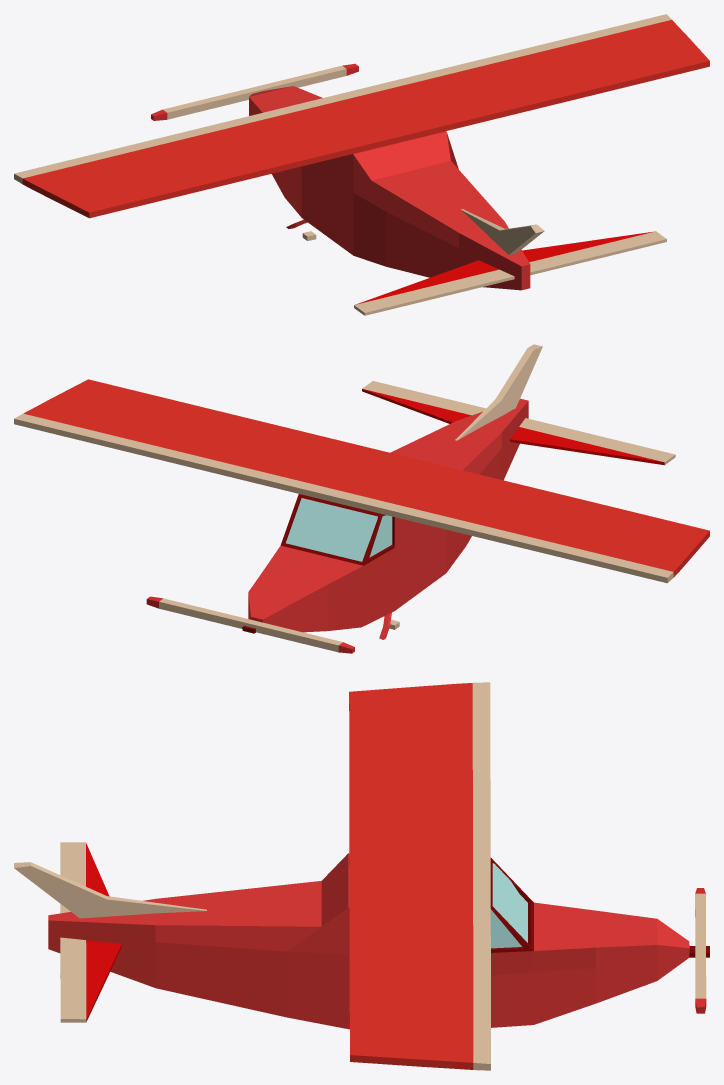
The model's file is airplane.glb.
3 views of the same model, one above another, from view 1: azimuth 30°, elevation 25°; view 2: azimuth 150°, elevation 25°; view 3: azimuth 270°, elevation 25° (orthographic). The views are drawn at different scales.
Parts seen in each view (by area): view 1: Wing, Plane, BackWing, Propeller, Back Tip; view 2: Wing, Plane, BackWing, Propeller, Back Tip; view 3: Wing, Plane, BackWing, Back Tip, Propeller.
Boxes of the visible parts, bbox=[...] form: Wing: bbox=[14, 14, 709, 218]; Plane: bbox=[249, 86, 530, 290]; BackWing: bbox=[354, 231, 666, 315]; Propeller: bbox=[151, 63, 358, 120]; Back Tip: bbox=[460, 209, 544, 254]; Wing: bbox=[14, 379, 709, 583]; Plane: bbox=[242, 398, 528, 633]; BackWing: bbox=[362, 381, 675, 465]; Propeller: bbox=[146, 596, 354, 653]; Back Tip: bbox=[455, 344, 542, 440]; Wing: bbox=[349, 682, 490, 1070]; Plane: bbox=[48, 853, 709, 1029]; BackWing: bbox=[60, 842, 121, 1022]; Back Tip: bbox=[14, 862, 206, 918]; Propeller: bbox=[695, 888, 706, 1013].
Bounding box in the file's own units: 5.16 × 1.03 × 3.97.
